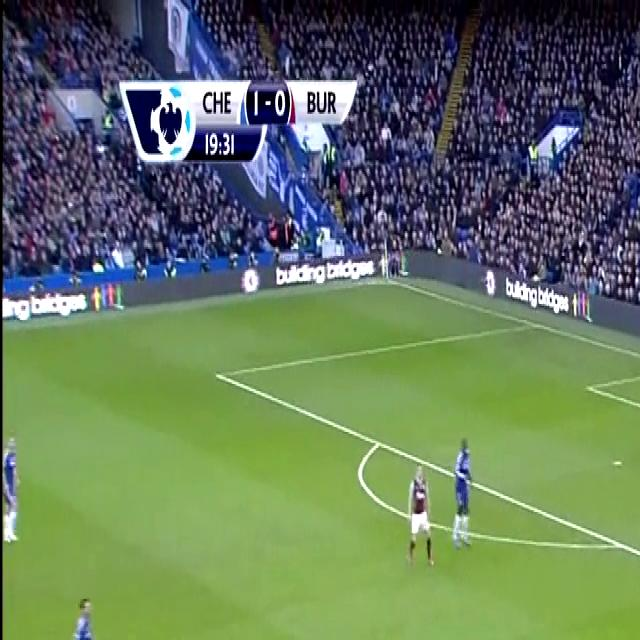soccer-player: (451, 423, 476, 551), (409, 460, 434, 563), (2, 435, 24, 551), (57, 594, 100, 640)
